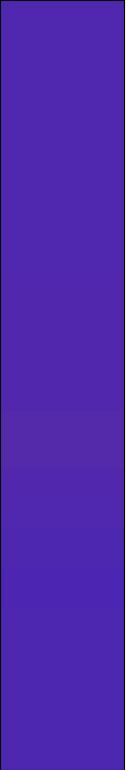safe: (4, 15, 119, 761)
